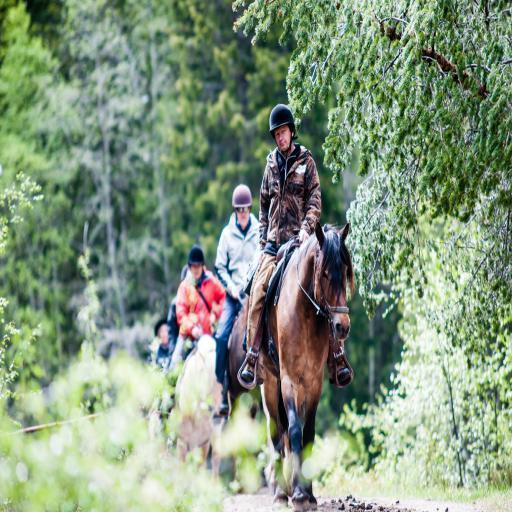horse: (222, 223, 358, 512), (218, 290, 278, 490), (170, 333, 234, 491)
